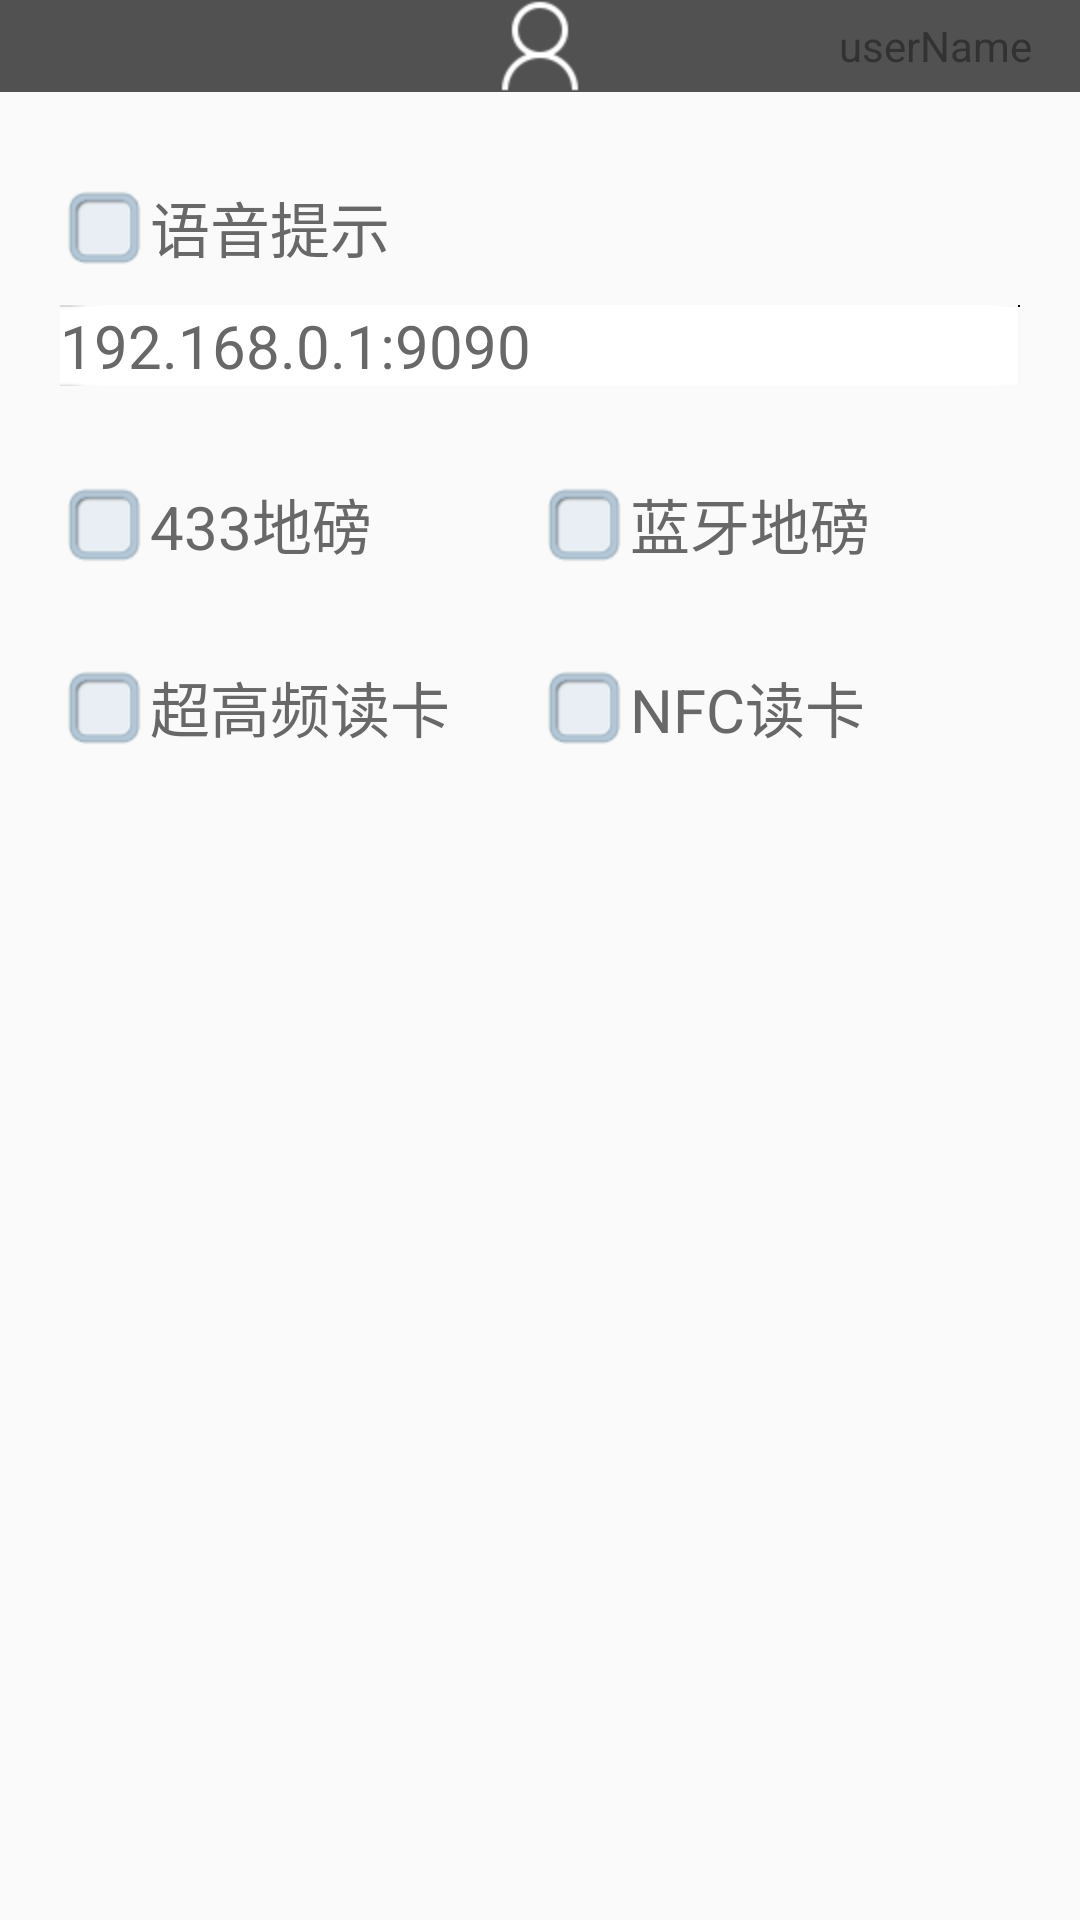

Icon click points for this 1080px x 1920px phone screenshot, format (x=x, y=y):
people: (x=540, y=46)
